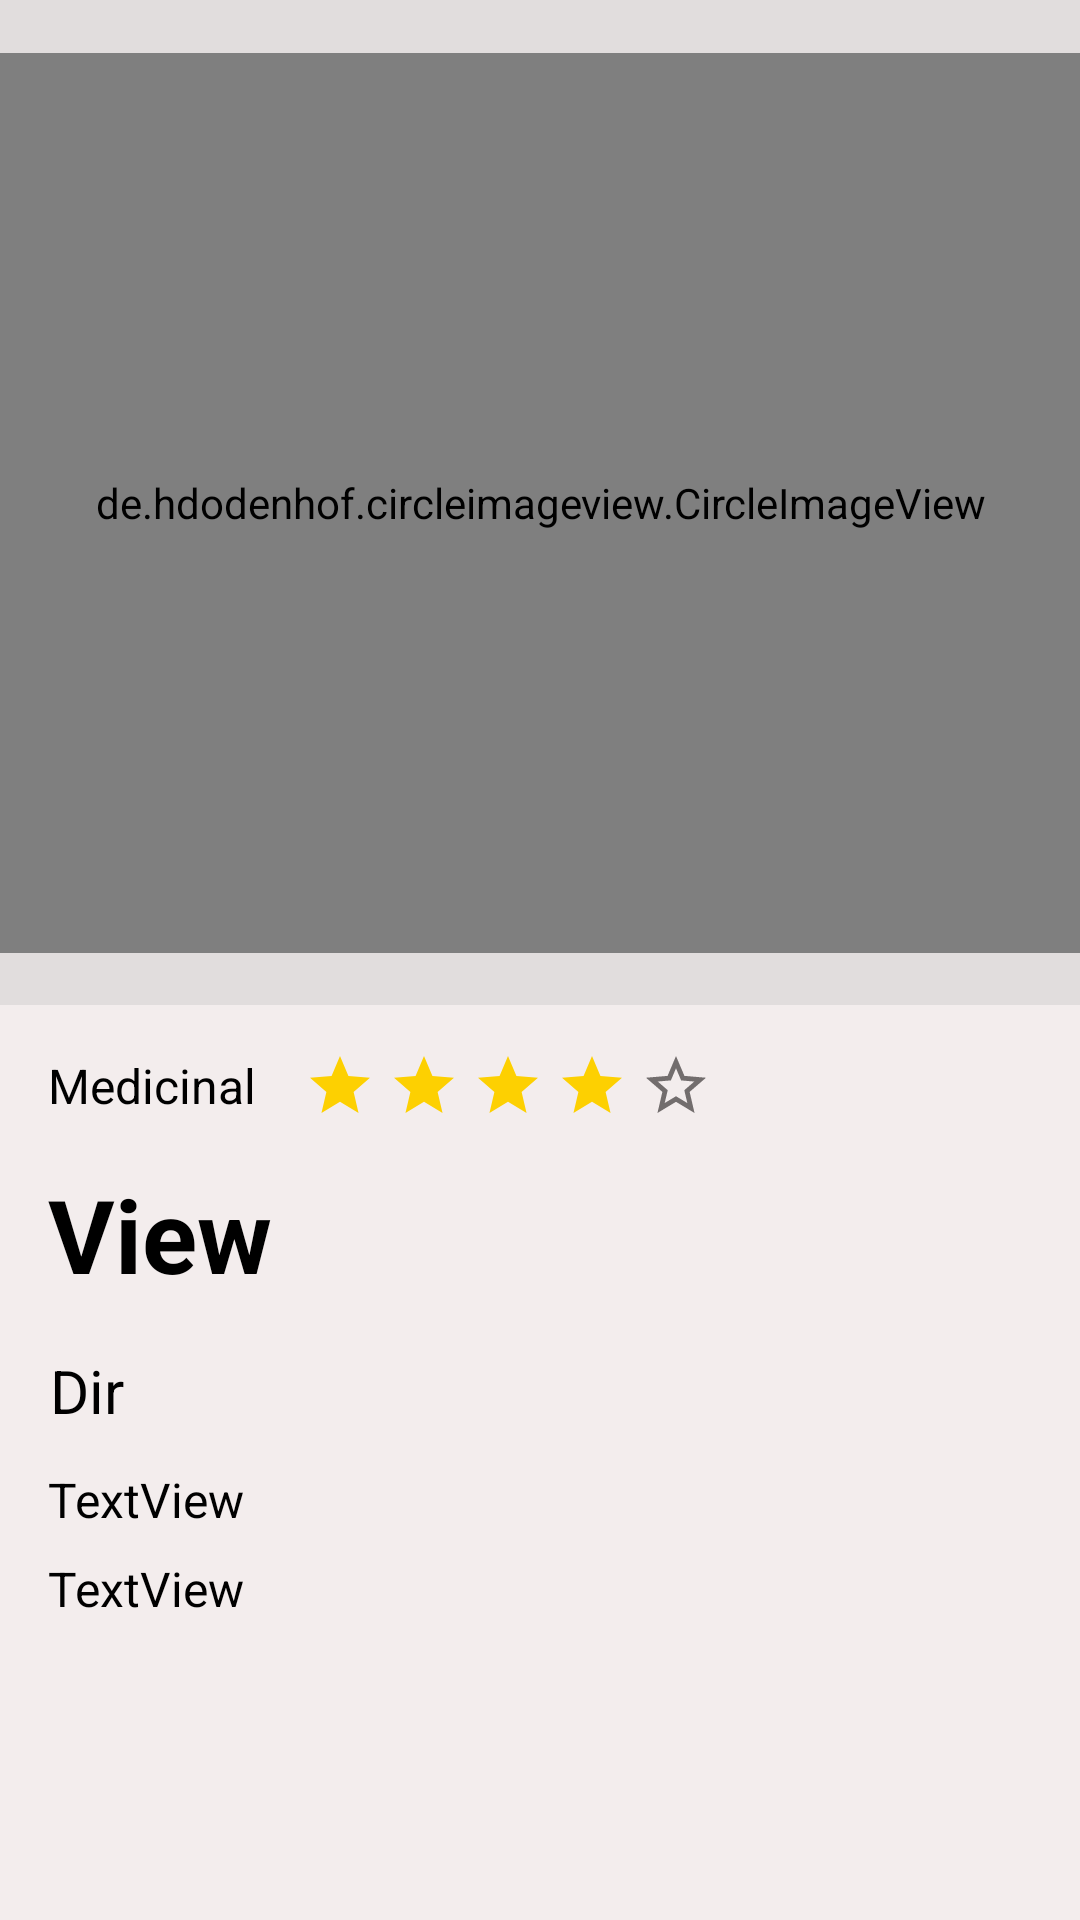

Locate icon controls on the screen. Image size 1080w x 1920h, boxes as (x1, y1, x2, y2).
star: (310, 1056, 370, 1113), (394, 1056, 454, 1113), (478, 1056, 538, 1113), (562, 1056, 622, 1113)
star border: (647, 1057, 705, 1113)
